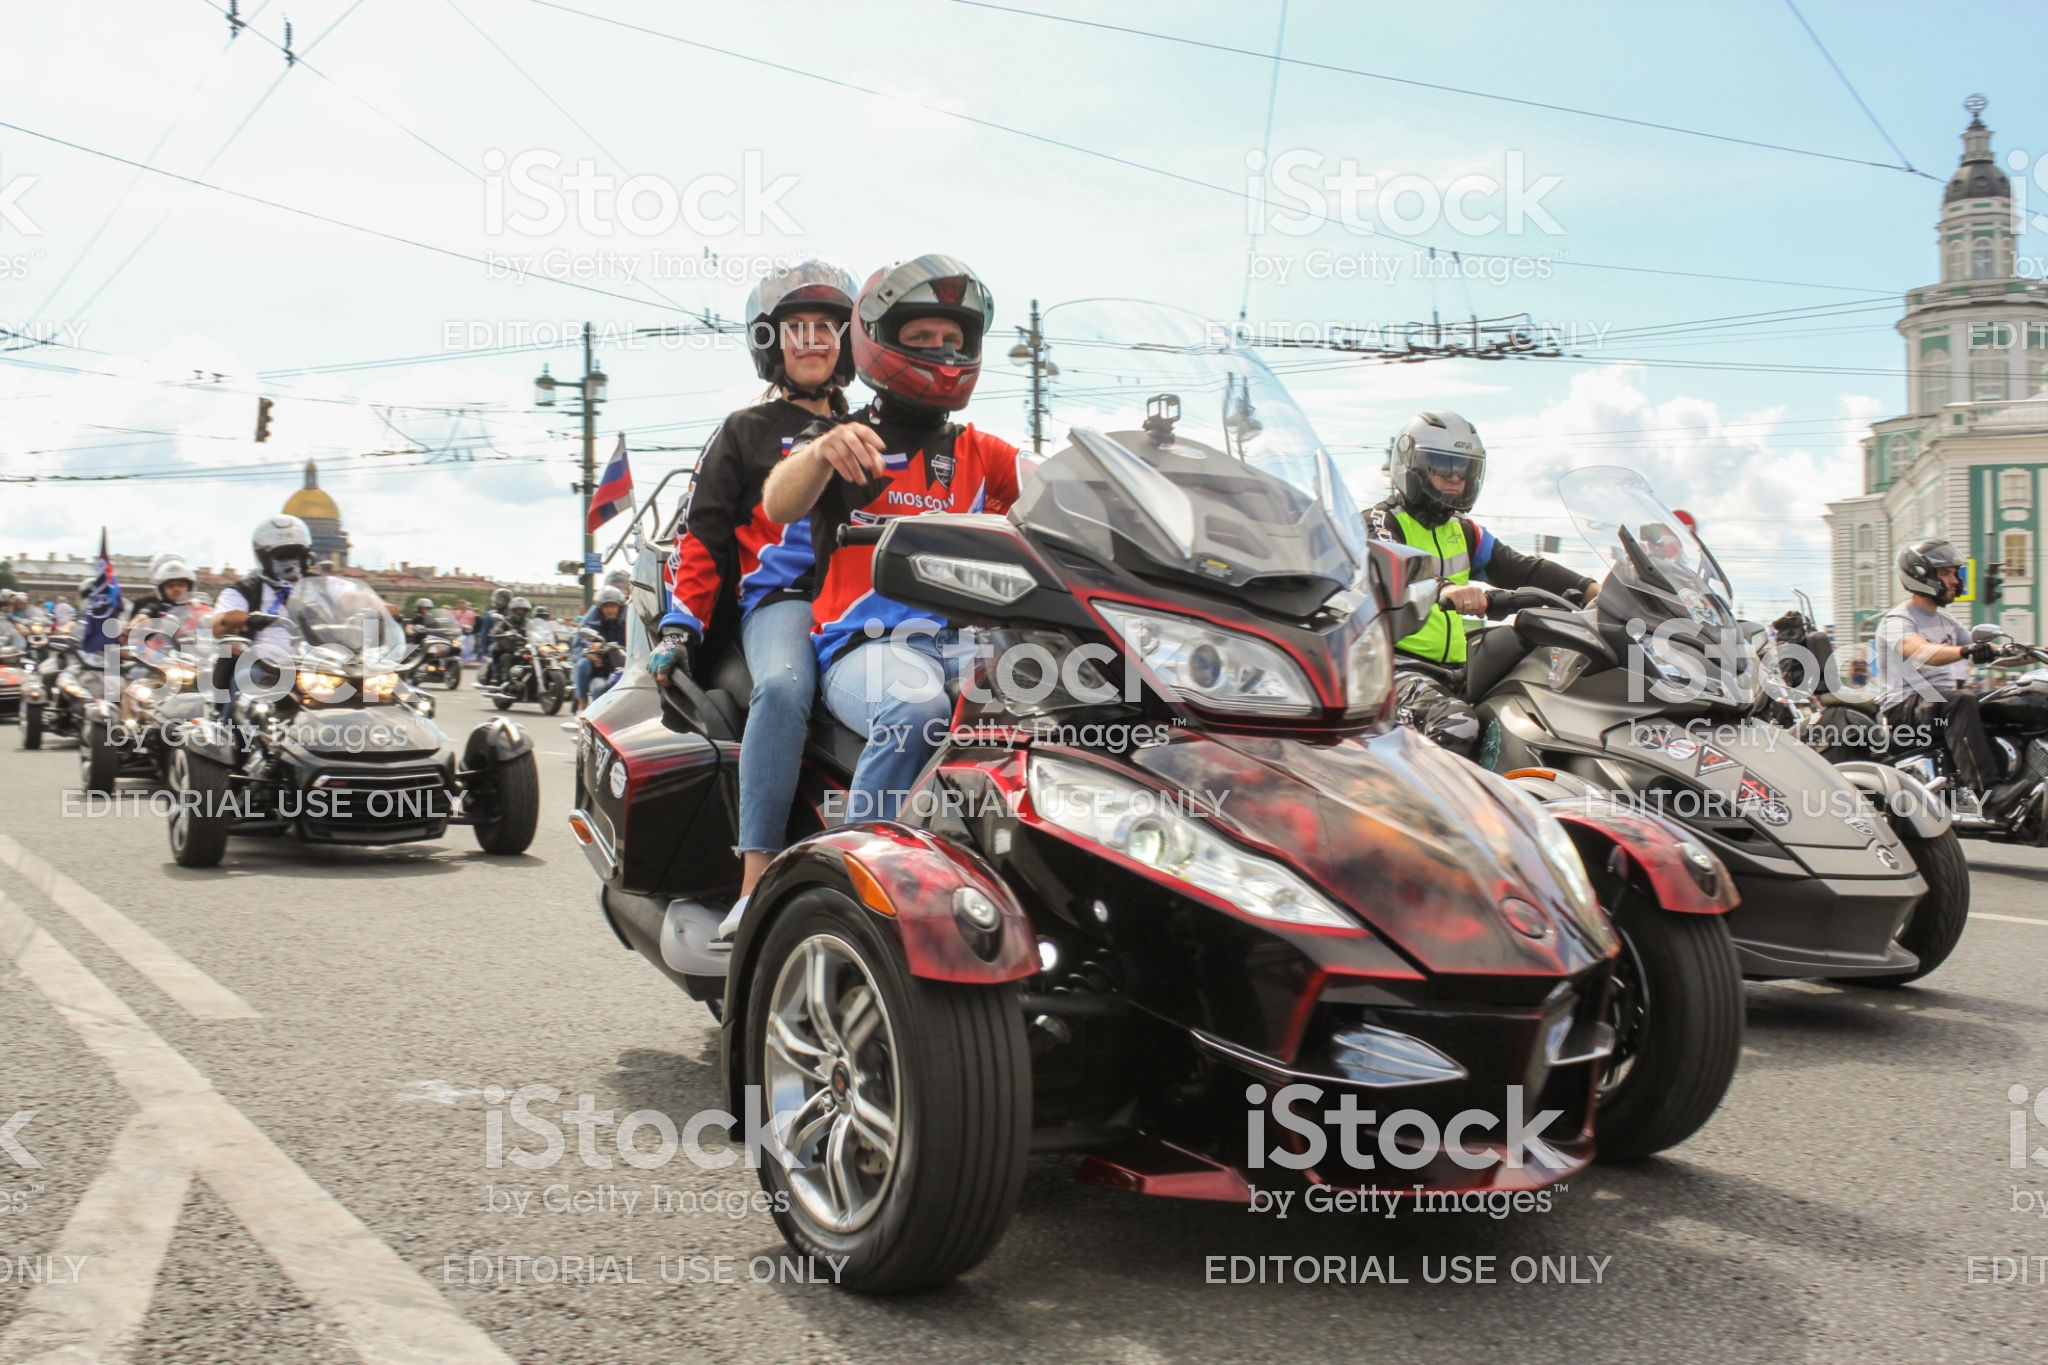helmet: (842, 267, 1003, 424), (719, 267, 882, 358), (1396, 401, 1527, 504)
